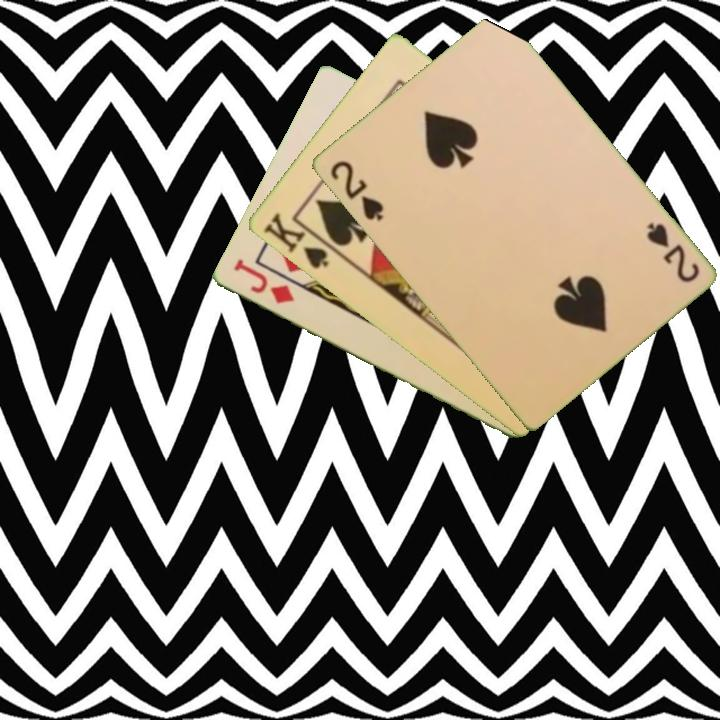2s: (326, 156, 386, 224), (642, 218, 702, 286)
Jd: (230, 255, 297, 307)
Ks: (259, 209, 340, 272)
